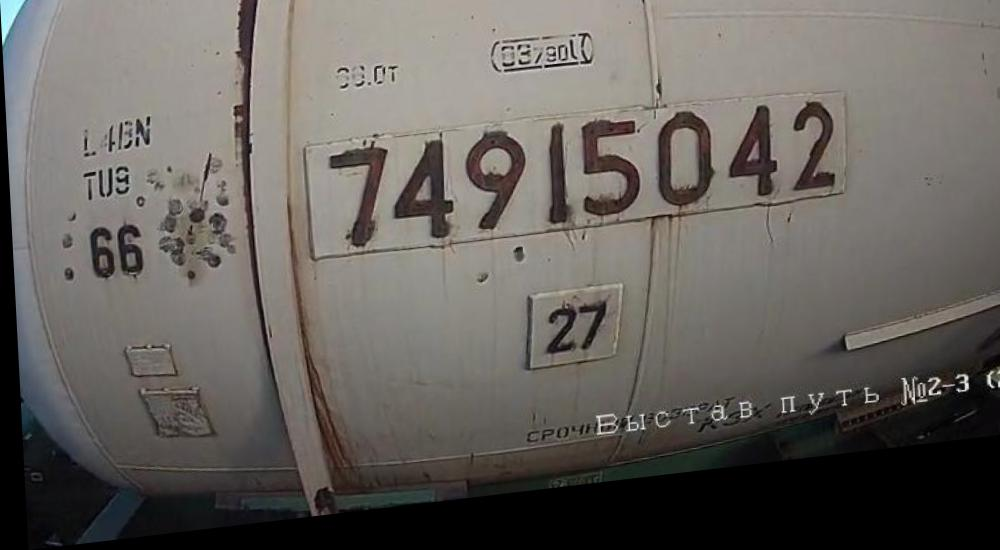Wagon-number: (322, 102, 840, 266)
